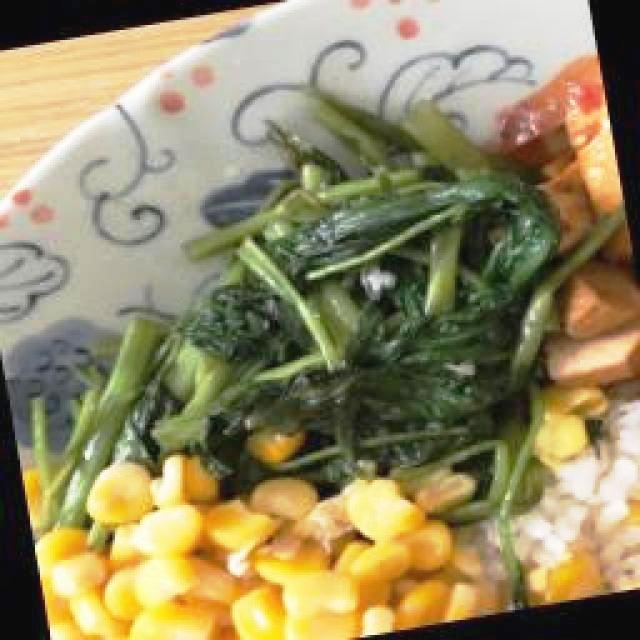water_spinach: (146, 112, 550, 479)
